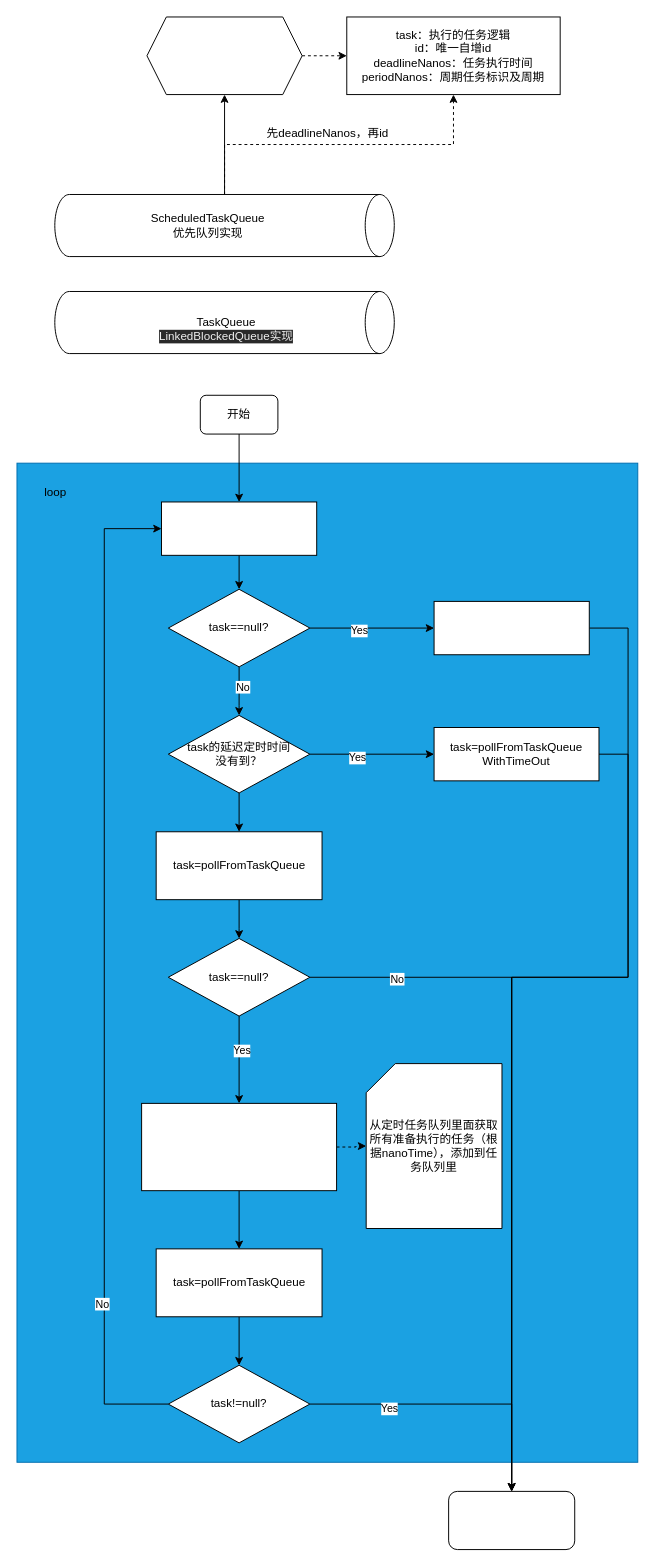
Some shapes in this 655 by 1567 pixel diagram are drawn without their labels. The shapes that lost their labels are listed below. From the top down, each one's centre as x and y in pixels, then its label:
At point (224, 55): "ScheduledFutureTask".
At point (239, 528): "task=peekFrom ScheduledTaskQueue".
At point (511, 627): "task=takeFromTaskQueue".
At point (239, 1146): "fetchFromScheduledTaskQueue & addToTaskQueue".
At point (511, 1520): "返回task".
